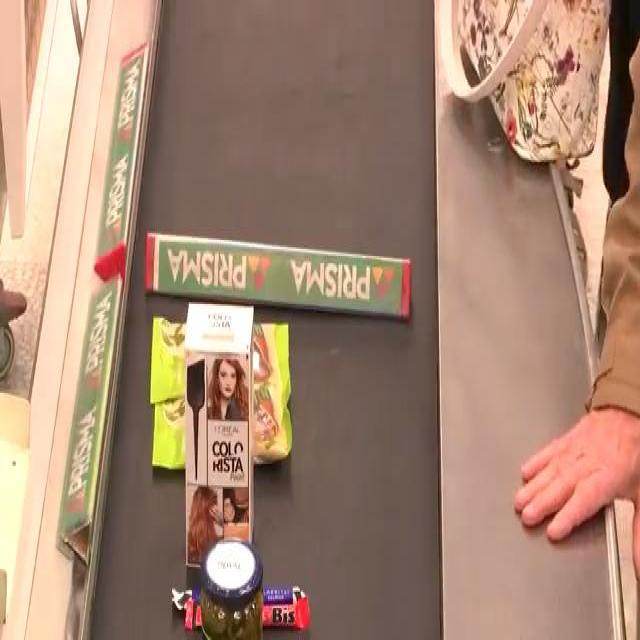food-box: (157, 320, 298, 471), (200, 524, 268, 640), (174, 581, 314, 626)
utility-box: (188, 298, 256, 568)
